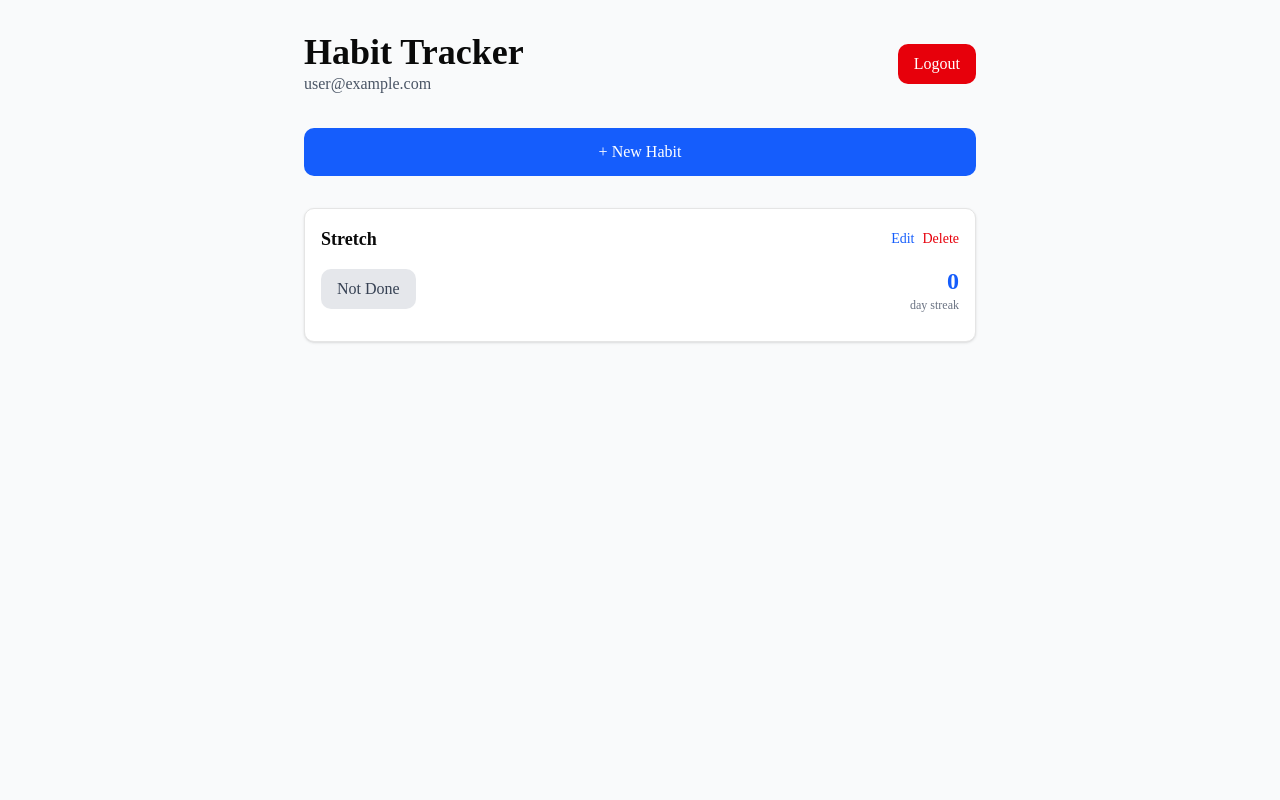
Test: habit form › deletes a habit only after explicit confirmation
Click the button with test id "habit-delete-stretch" at coordinates (941, 239), box 922,229 -> 959,249
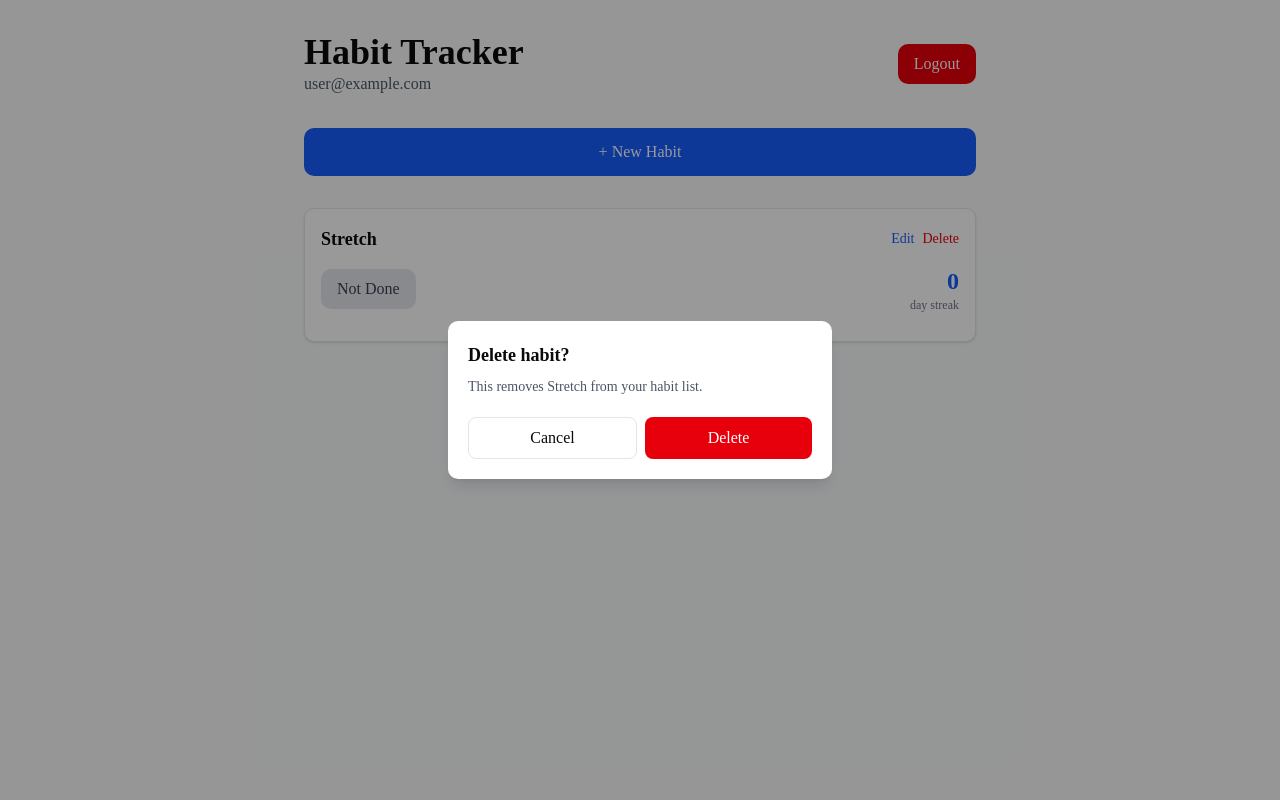
Expected: the element with test id "habit-card-stretch" is shown, 304,208 -> 976,342
Click the button with test id "confirm-delete-button" at coordinates (728, 438), box 645,417 -> 812,459
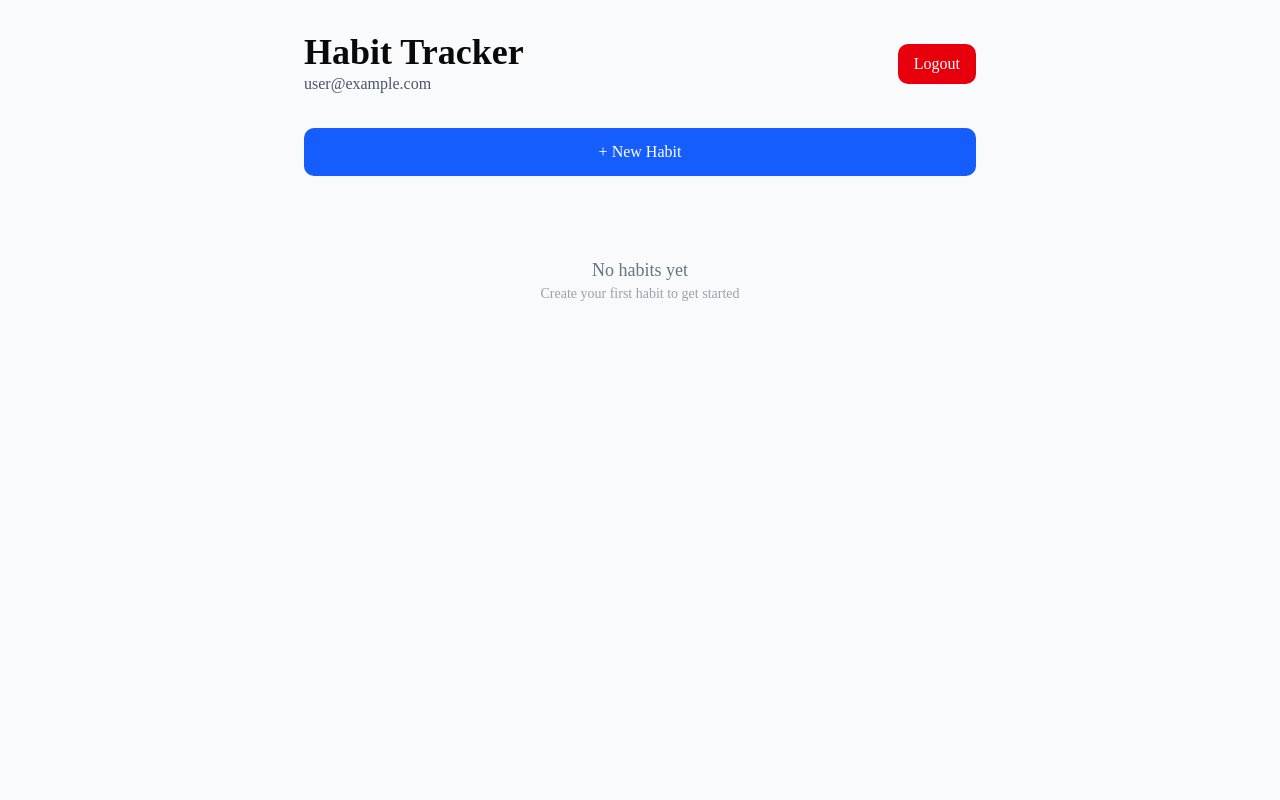
Expected: the element with test id "habit-card-stretch" is gone
